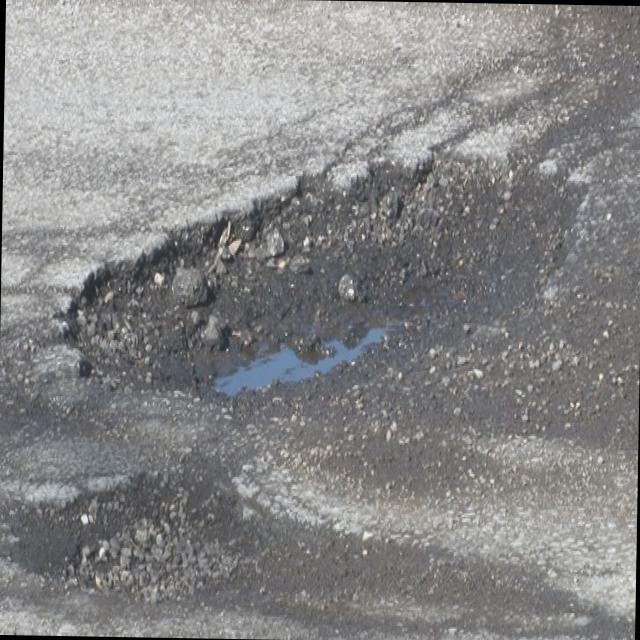Pothole: (53, 141, 584, 413), (58, 492, 247, 611)
